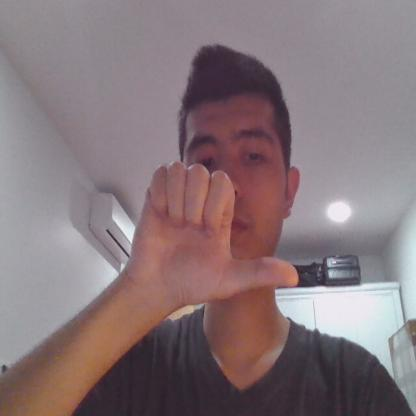left: (124, 159, 299, 323)
